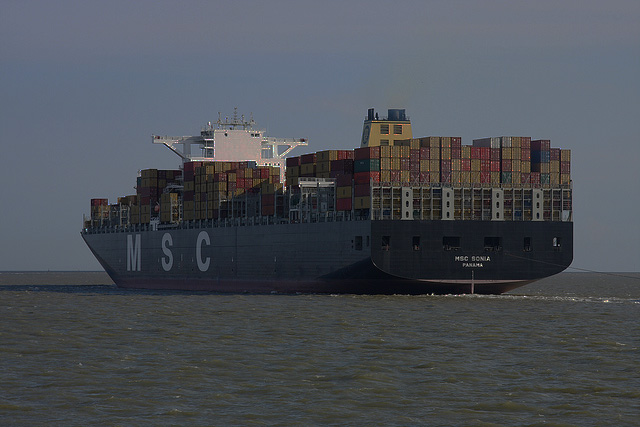container_ship: (80, 109, 575, 296)
